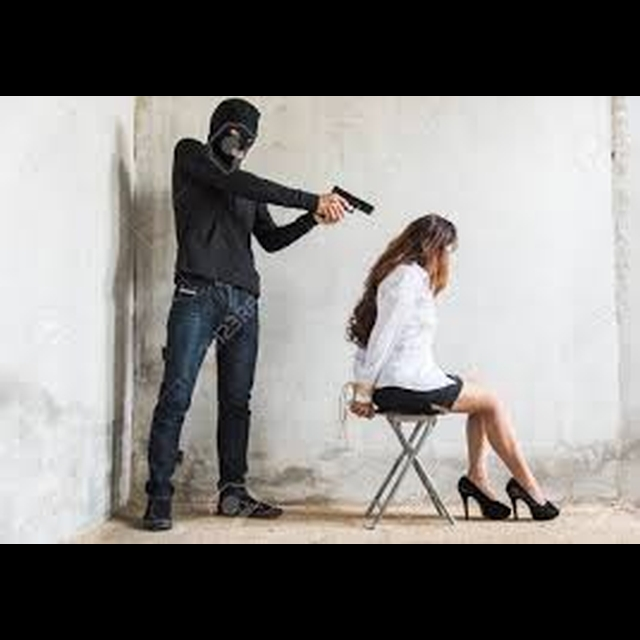SILAH: (294, 175, 390, 246)
